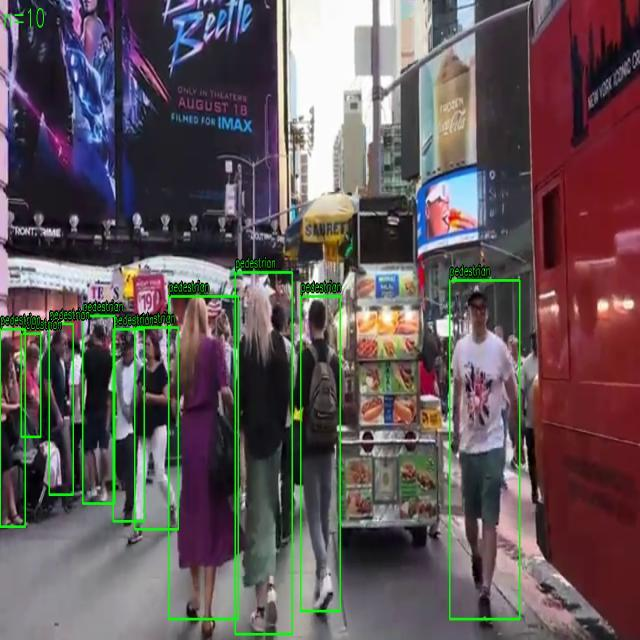with scooter: (450, 280, 520, 620), (168, 296, 238, 620), (235, 272, 293, 635), (300, 296, 340, 612), (134, 327, 178, 530), (82, 316, 116, 504), (114, 329, 144, 522), (0, 329, 26, 527), (48, 324, 74, 496), (21, 333, 41, 438)
